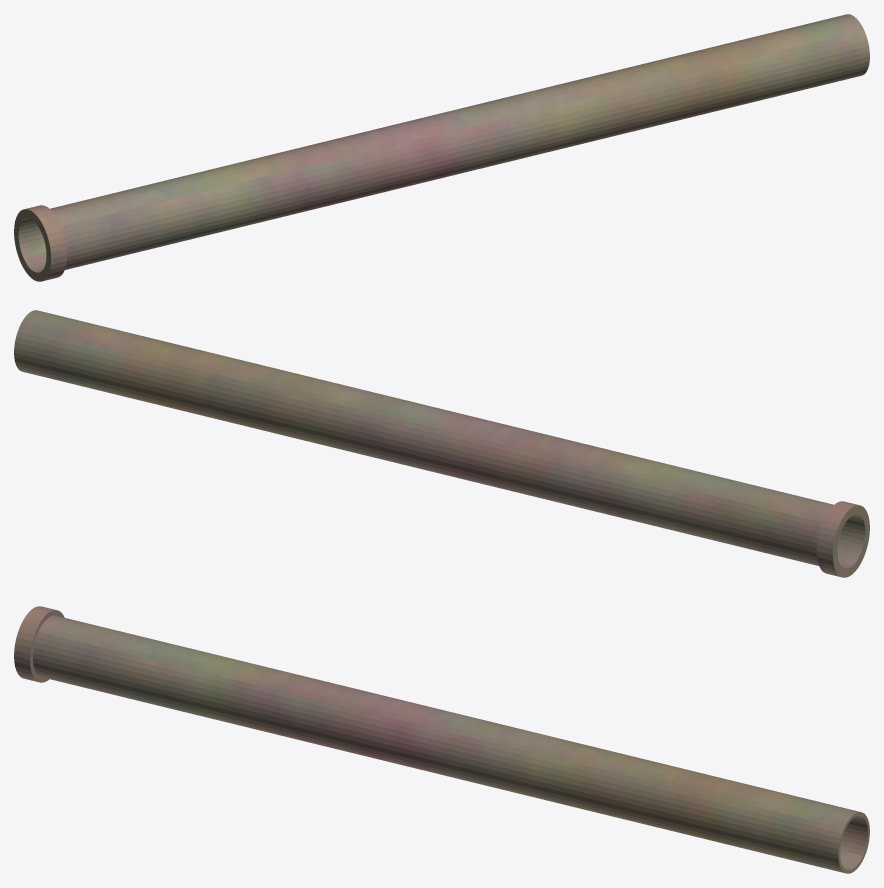
The model's file is Pipe 3 no end.glb.
3 views of the same model, one above another, from view 1: azimuth 30°, elevation 25°; view 2: azimuth 150°, elevation 25°; view 3: azimuth 330°, elevation 25° (orthographic).
Parts seen in each view (by area): view 1: Pipe thin 500mm NE; view 2: Pipe thin 500mm NE; view 3: Pipe thin 500mm NE.
Boxes of the visible parts, left/top/right/bottom form: Pipe thin 500mm NE: left=14, top=14, right=869, bottom=281; Pipe thin 500mm NE: left=14, top=310, right=869, bottom=577; Pipe thin 500mm NE: left=14, top=606, right=869, bottom=873.
Bounding box in the file's own units: 36.28 × 2.85 × 2.85.
1 material, 1 textured.
